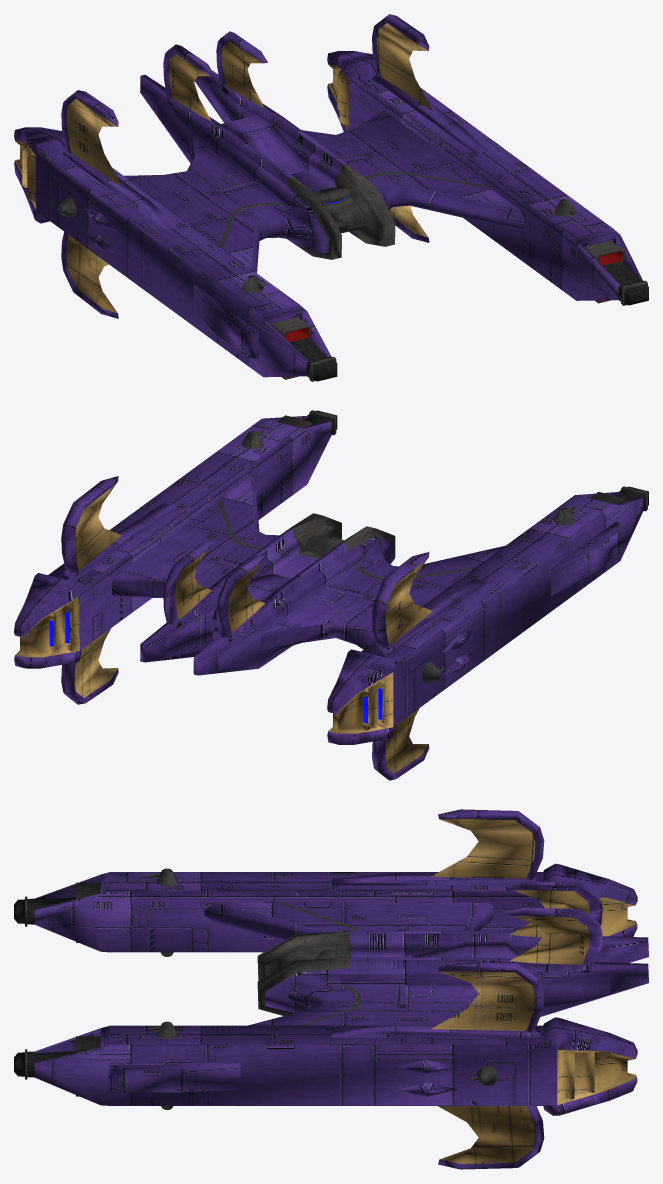
Rendered from balvarin.glb.
3 renders of one model, top to bottom at view 1: azimuth 30°, elevation 25°; view 2: azimuth 150°, elevation 25°; view 3: azimuth 270°, elevation 25°, orthographic.
Visible parts, largest first — view 1: Centauri_Balvarian_low_poly; view 2: Centauri_Balvarian_low_poly; view 3: Centauri_Balvarian_low_poly.
Part boxes in pixels (x1=…): Centauri_Balvarian_low_poly: x1=14, y1=14, x2=648, y2=381; Centauri_Balvarian_low_poly: x1=14, y1=410, x2=648, y2=780; Centauri_Balvarian_low_poly: x1=14, y1=809, x2=648, y2=1169.
Size of the model in its own units: 97.57 by 50.63 by 141.
Materials: 6 (5 with a texture image).
